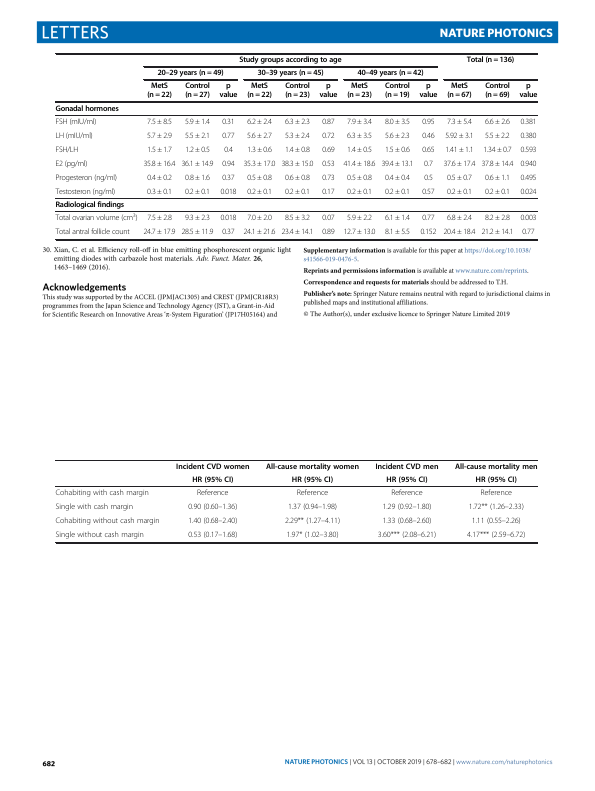borderless: (54, 52, 537, 239), (54, 458, 537, 542)
cell: (54, 516, 160, 526), (54, 488, 150, 498), (238, 56, 342, 65), (55, 212, 138, 223), (55, 530, 145, 540), (265, 462, 360, 471), (54, 502, 134, 512), (454, 462, 538, 471), (256, 69, 325, 79), (55, 228, 131, 237), (156, 69, 224, 79), (356, 69, 424, 79), (175, 462, 250, 471), (55, 104, 120, 114), (55, 173, 118, 183), (55, 201, 125, 210), (55, 187, 116, 197), (377, 530, 437, 540), (466, 530, 526, 540), (374, 462, 439, 471), (468, 502, 525, 512), (284, 516, 341, 526), (285, 530, 339, 540), (146, 82, 173, 101), (184, 82, 211, 101), (246, 82, 273, 101), (284, 82, 311, 101), (346, 82, 373, 101), (384, 82, 411, 101), (446, 82, 473, 101), (484, 82, 511, 101), (187, 502, 238, 512), (287, 502, 338, 512), (381, 502, 432, 512), (187, 516, 238, 526), (381, 516, 432, 526), (471, 516, 522, 526), (187, 530, 238, 540), (466, 56, 515, 65), (191, 475, 234, 485), (291, 475, 334, 485), (385, 475, 428, 485), (475, 475, 518, 485), (55, 117, 97, 127), (55, 131, 94, 141), (318, 82, 338, 101), (418, 82, 438, 101), (518, 82, 538, 101), (219, 82, 238, 101), (142, 159, 176, 169), (180, 159, 214, 169), (242, 159, 276, 169), (280, 159, 314, 169), (342, 159, 376, 169), (380, 159, 414, 169), (442, 159, 476, 169), (480, 159, 514, 169), (390, 488, 424, 498), (479, 488, 513, 498), (55, 159, 88, 169), (196, 488, 229, 498), (296, 488, 329, 498), (444, 145, 475, 155), (482, 145, 513, 155), (142, 228, 176, 237), (180, 228, 214, 237), (242, 228, 276, 237), (280, 228, 314, 237), (342, 228, 376, 237), (442, 228, 476, 237), (480, 228, 514, 237), (444, 131, 474, 141), (146, 117, 173, 127), (184, 117, 211, 127), (246, 117, 273, 127), (284, 117, 311, 127), (346, 117, 373, 127), (384, 117, 411, 127), (446, 117, 473, 127), (484, 117, 511, 127), (146, 131, 173, 141), (184, 131, 211, 141), (246, 131, 273, 141), (284, 131, 311, 141), (346, 131, 373, 141), (384, 131, 411, 141), (484, 131, 511, 141), (146, 145, 173, 155), (184, 145, 211, 155), (246, 145, 273, 155), (284, 145, 311, 155), (346, 145, 373, 155), (384, 145, 411, 155), (146, 173, 173, 183), (184, 173, 211, 183), (246, 173, 273, 183), (284, 173, 311, 183), (346, 173, 373, 183), (384, 173, 411, 183), (446, 173, 473, 183), (484, 173, 511, 183), (146, 187, 173, 197), (184, 187, 211, 197), (246, 187, 273, 197), (284, 187, 311, 197), (346, 187, 373, 197), (384, 187, 411, 197), (446, 187, 473, 197), (484, 187, 511, 197), (146, 214, 173, 223), (184, 214, 211, 223), (246, 214, 273, 223), (284, 214, 311, 223), (346, 214, 373, 223), (384, 214, 411, 223), (446, 214, 473, 223), (484, 214, 511, 223), (384, 228, 411, 237), (55, 145, 79, 155), (519, 117, 537, 127), (519, 131, 537, 141), (519, 145, 537, 155), (519, 159, 537, 169), (519, 173, 537, 183), (219, 187, 237, 197), (519, 187, 537, 197), (219, 214, 237, 223), (519, 214, 537, 223), (419, 228, 437, 237), (221, 117, 236, 127), (321, 117, 336, 127), (321, 145, 336, 155), (421, 145, 436, 155), (321, 159, 336, 169), (221, 173, 236, 183), (321, 173, 336, 183), (321, 187, 336, 197), (421, 117, 435, 127), (221, 131, 235, 141), (321, 131, 335, 141), (421, 131, 435, 141), (221, 159, 235, 169), (421, 187, 435, 197), (321, 214, 336, 223), (321, 228, 336, 237), (421, 214, 435, 223), (221, 228, 235, 237), (521, 228, 535, 237), (223, 145, 234, 155), (423, 159, 434, 169), (423, 173, 434, 183)
